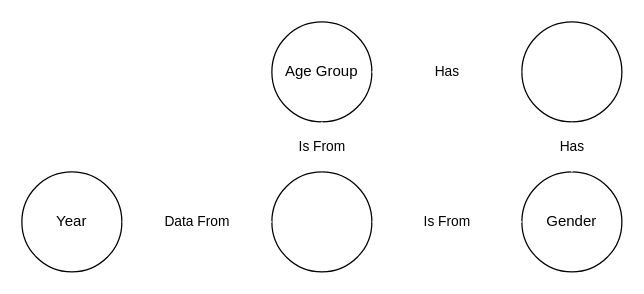
This 644x294 diagram has some shape labels left out. Each missing label, with the centre of its shape:
"Country" goes at (x=321, y=221).
"Suicide Rate" goes at (x=571, y=71).
